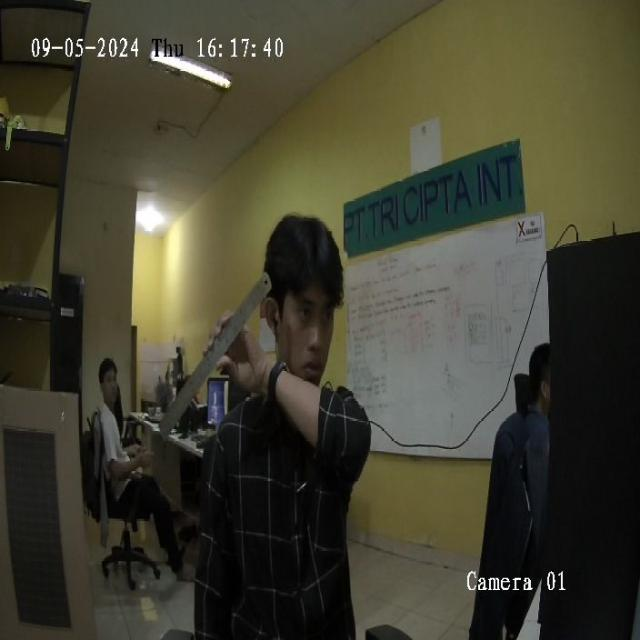Ruler: (159, 272, 270, 439)
